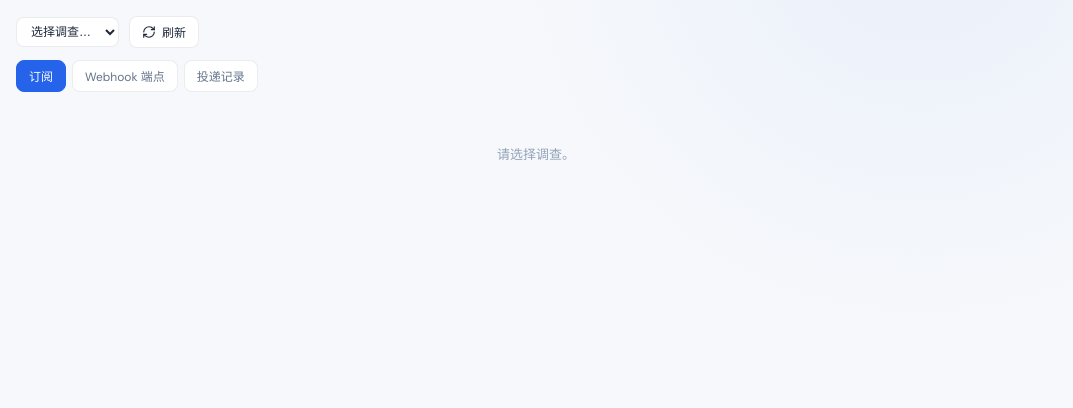
Test: AdministrationNotificationsView › switches between subscriptions / endpoints / deliveries tabs
The width and height of the screenshot is (1073, 408).
Select "调查A" in the dropdown at (68, 32), box [16, 17, 119, 47]
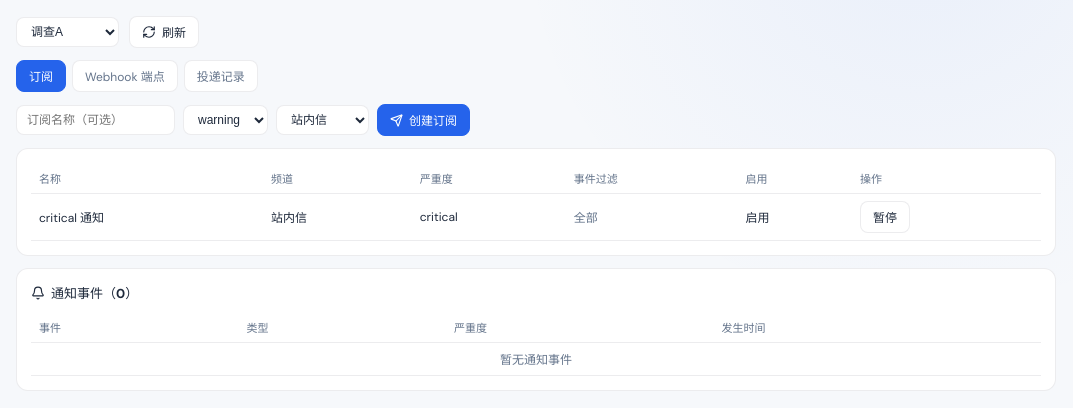
Select "调查A" in the 1st dropdown at (68, 32), box [16, 17, 119, 47]
Click the button with class "anot__tab" showing "Webhook 端点" at (125, 76), box [72, 60, 178, 92]
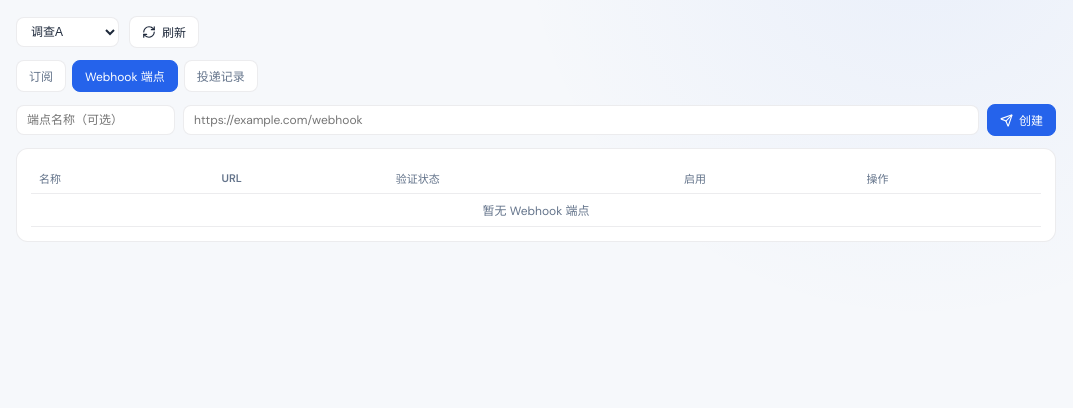
Click the button with class "anot__tab" showing "投递记录" at (221, 76), box [184, 60, 258, 92]
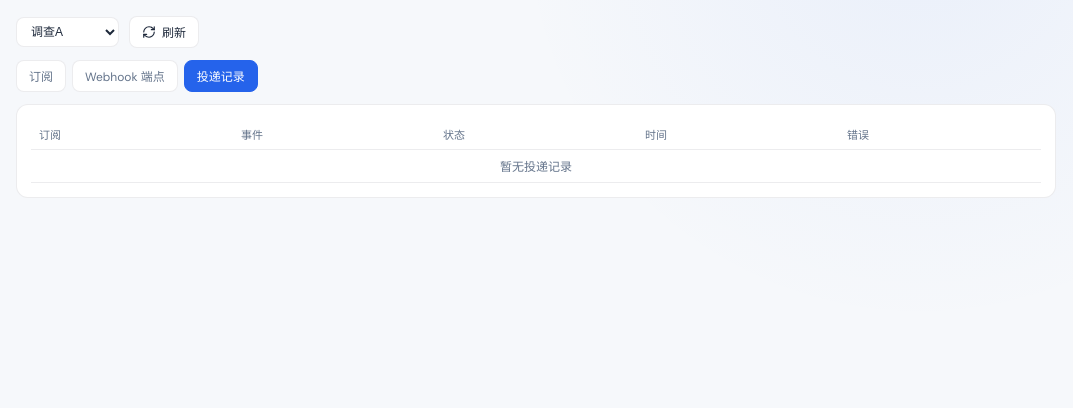
Now the text "暂无投递记录" is shown, box [31, 150, 1041, 182]
